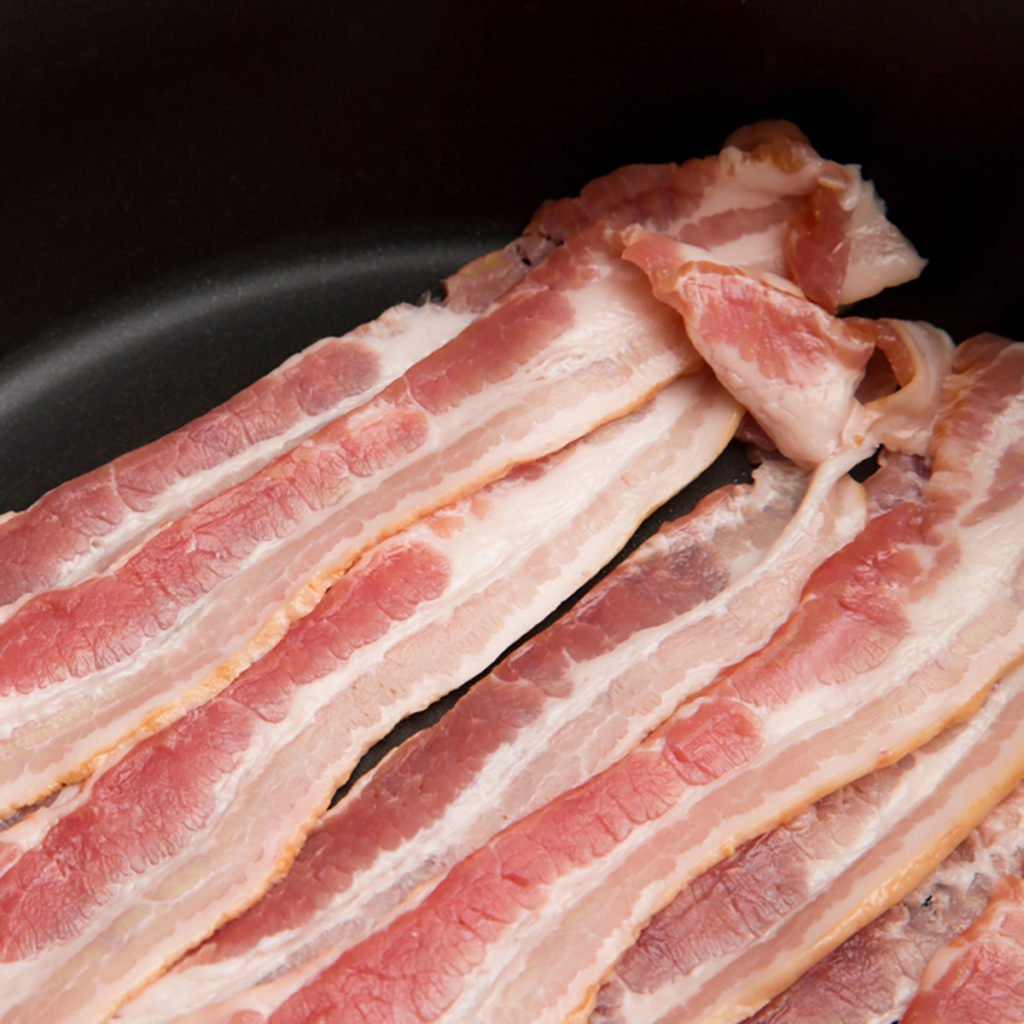bacon: (24, 405, 997, 996), (444, 118, 935, 514)
